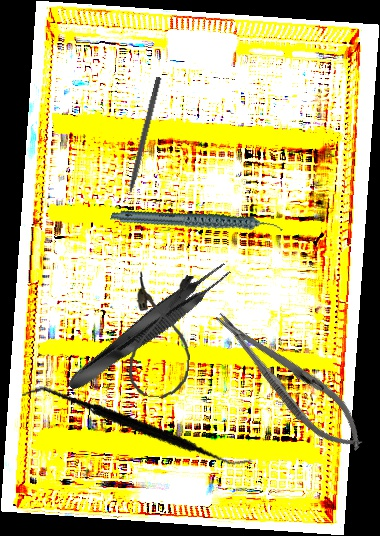Cannula: (127, 271, 197, 400)
Handpiece: (110, 176, 284, 269)
Hook Surgical: (121, 76, 163, 208)
Needle Holder: (202, 297, 377, 464)
Spatula Surgical: (20, 346, 255, 509)
Tissue Forceps: (61, 256, 236, 398)
